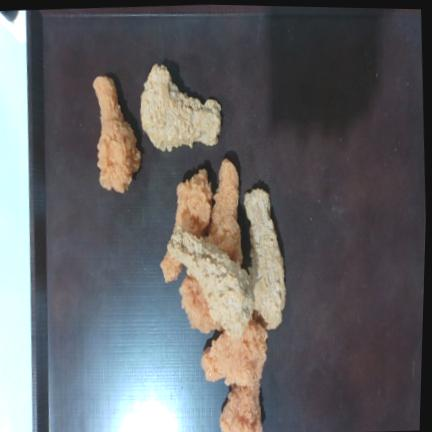chicken: (168, 227, 254, 338), (140, 65, 221, 151), (244, 188, 285, 329), (93, 76, 140, 193), (201, 320, 267, 386), (206, 158, 242, 264), (174, 169, 212, 237)
